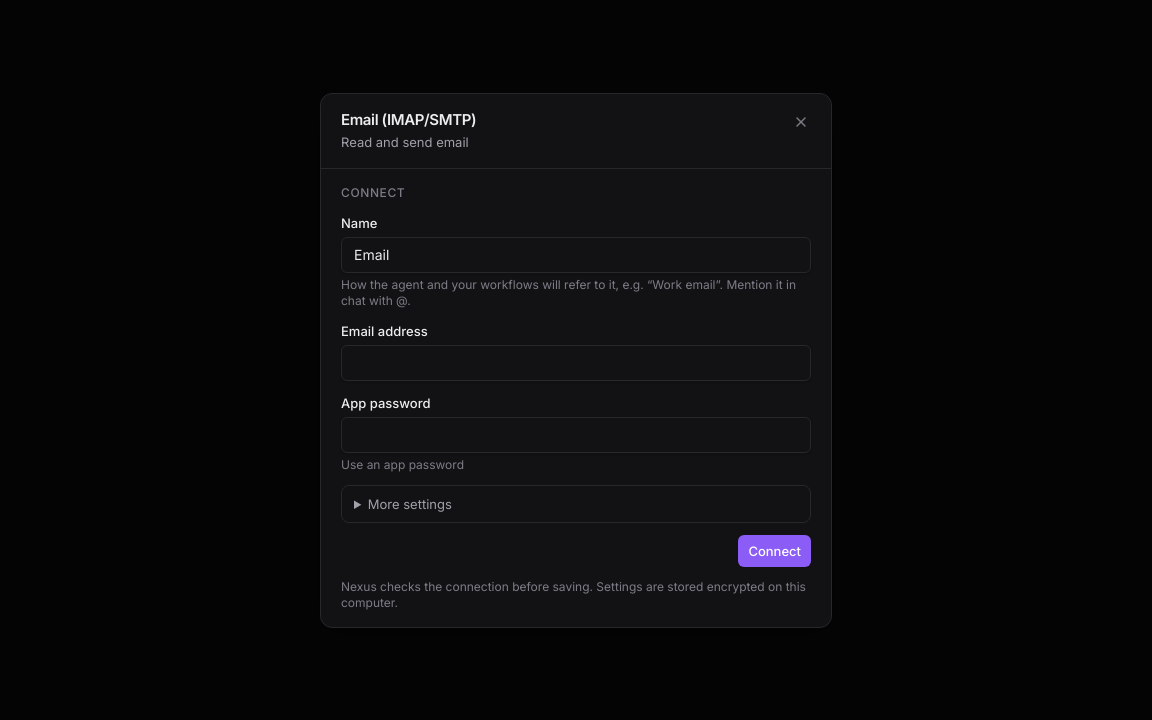
connecting sends the form and shows what the check found; errors are shown in place
The image size is (1152, 720).
Type "me@x.com" into the field labelled "Email address". click: point(576, 362)
box: [341,344,811,380]
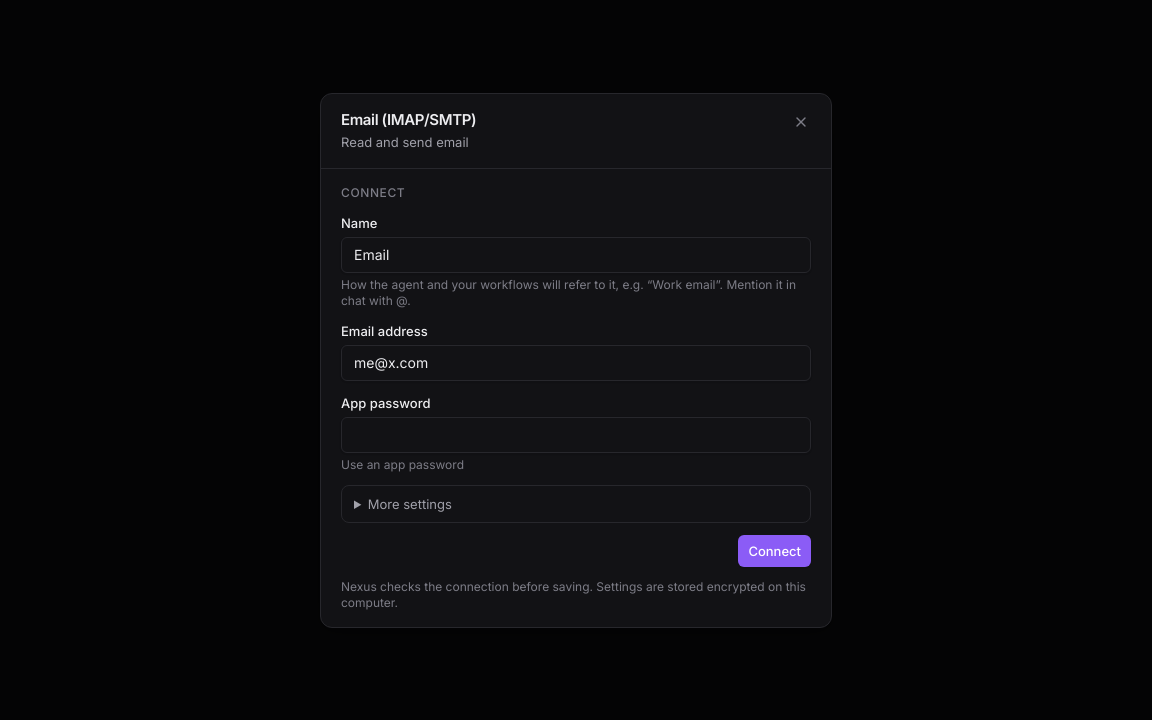
Type "secret" into the password field labelled "App password". click: point(576, 434)
box: [341,416,811,452]
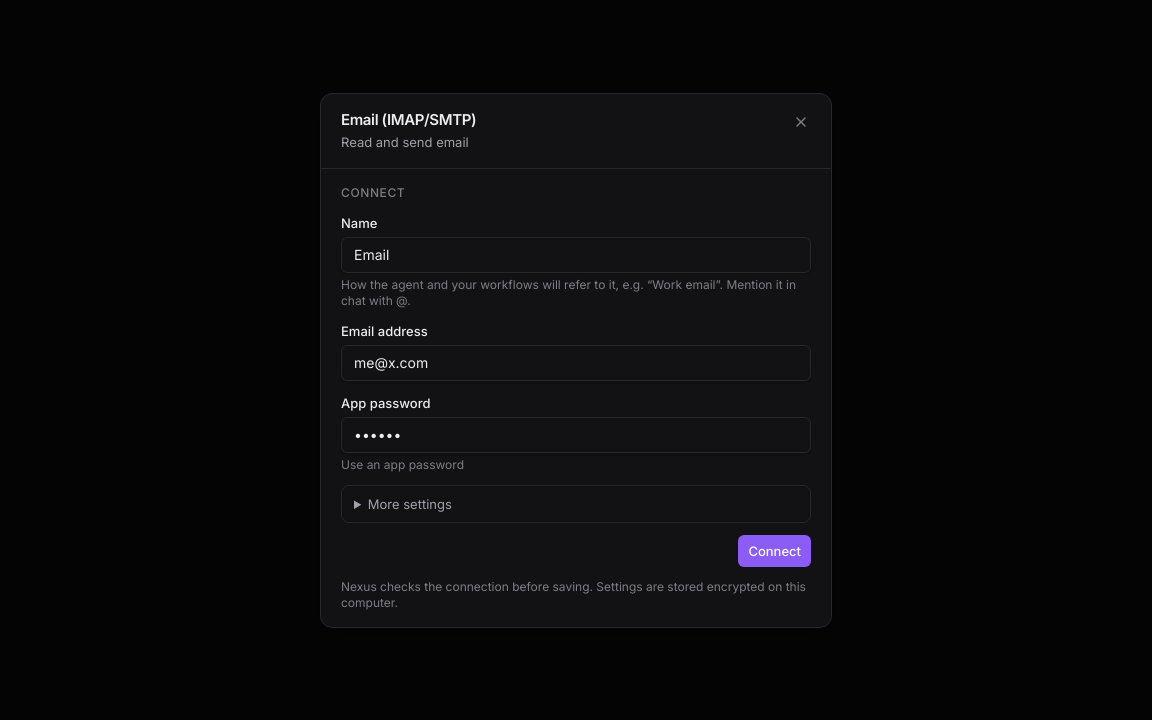
Click the button "Connect". click: point(775, 550)
box: [738,534,811,566]
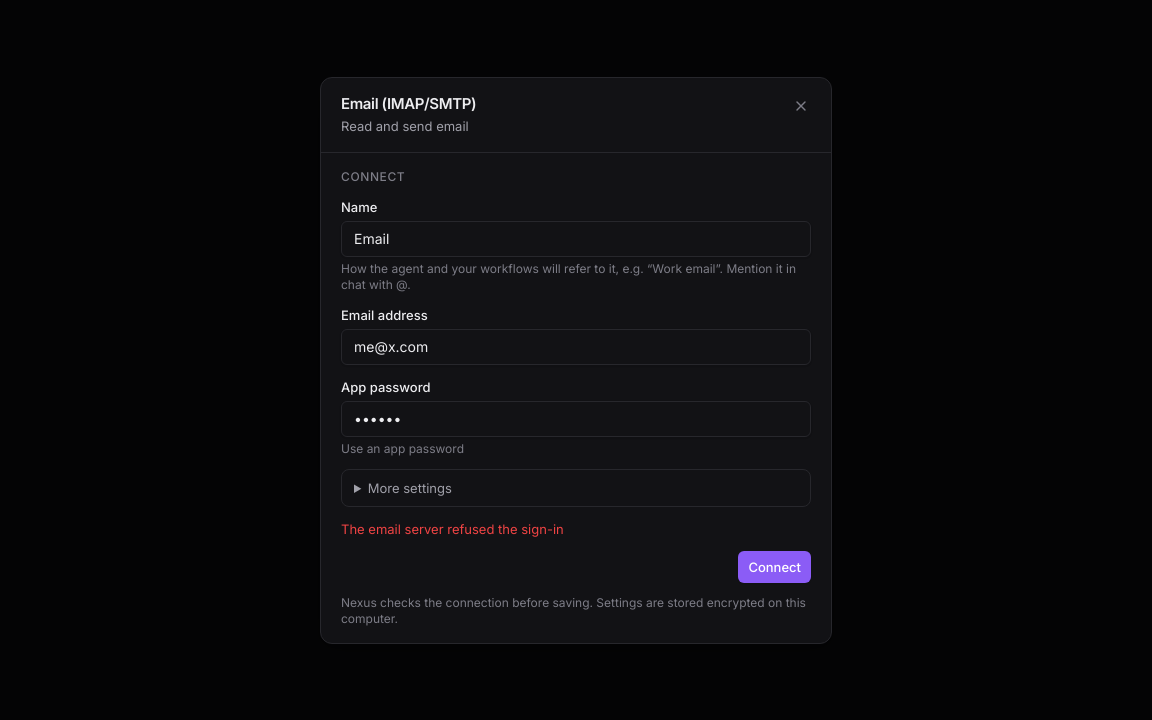
Result: the message shows "refused the sign-in" at [341,520,564,536]
